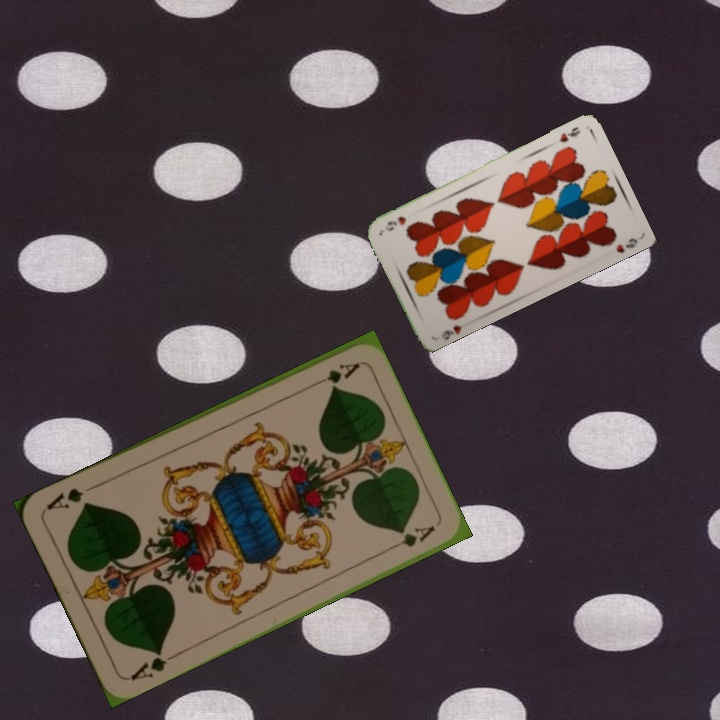GA: (126, 645, 180, 684), (307, 358, 362, 390)
H9: (437, 318, 470, 342), (555, 123, 583, 145)
